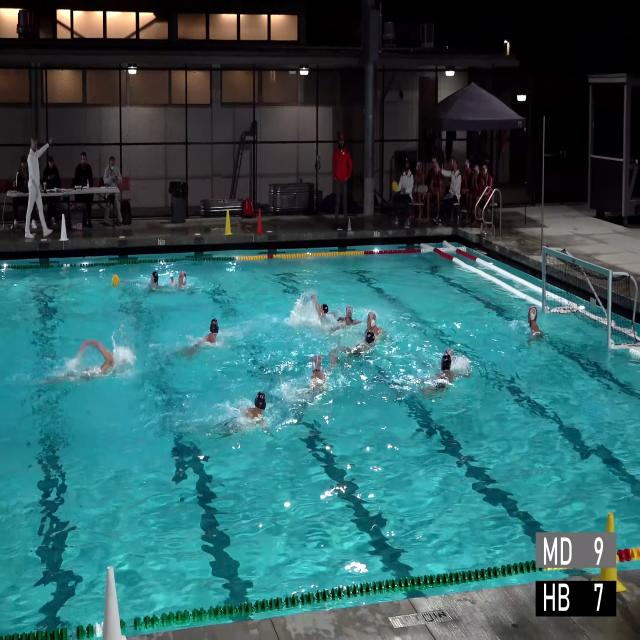ball: (112, 274, 120, 286), (392, 181, 397, 191)
